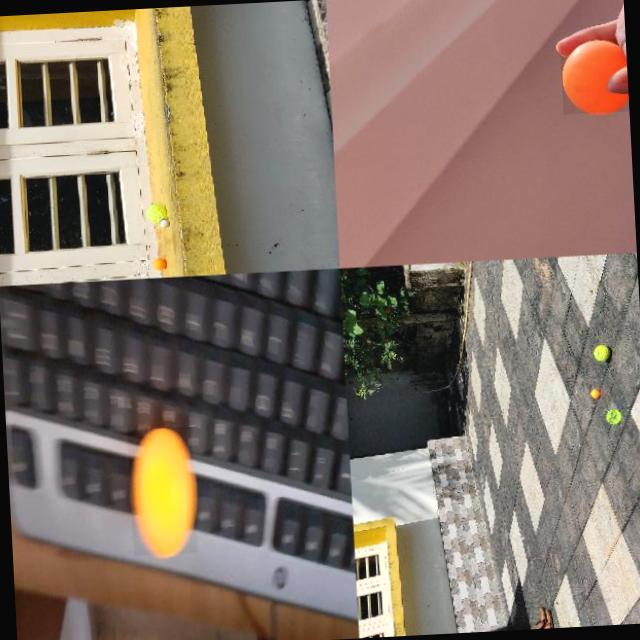ping-pong-ball: (126, 428, 198, 556), (558, 38, 630, 116), (152, 257, 165, 270), (588, 389, 598, 398)
